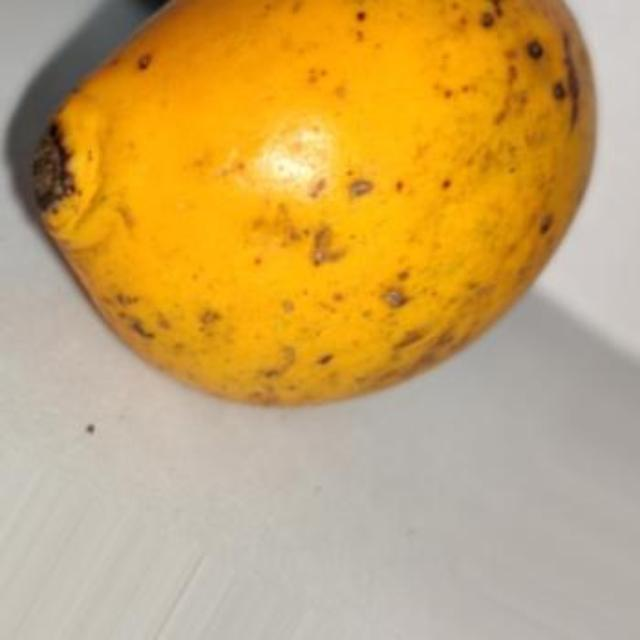good: (31, 0, 596, 410)
